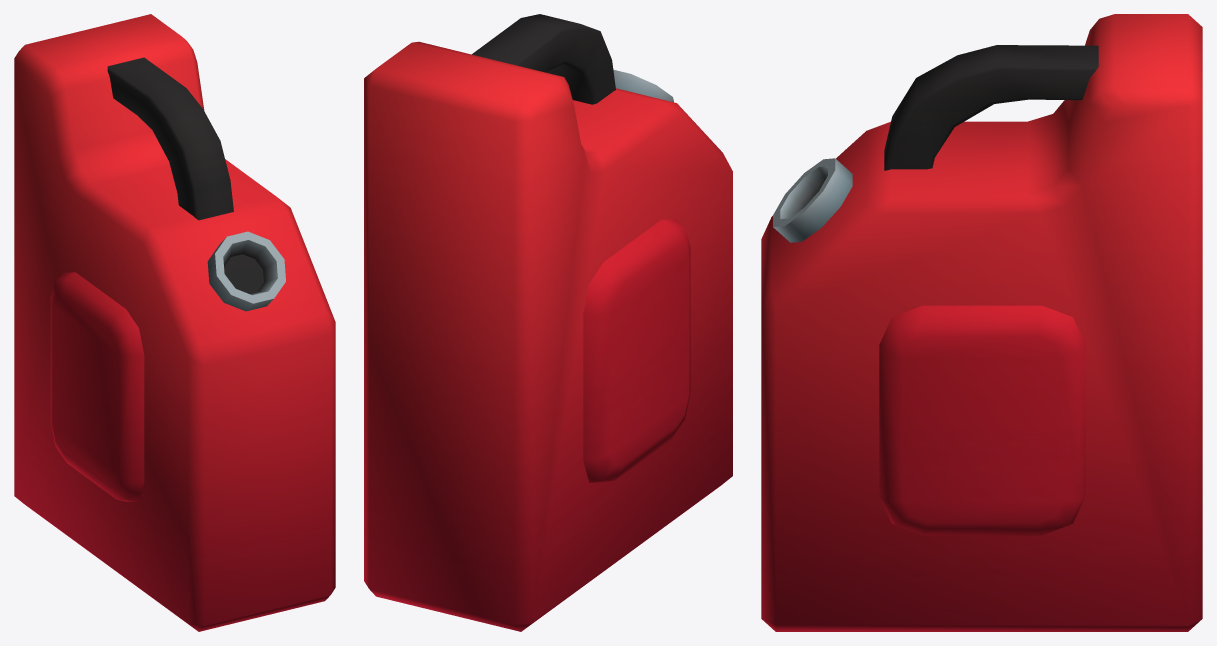
File: Fuel_Canister.fbx
3 renders of one model, left to right at view 1: azimuth 30°, elevation 25°; view 2: azimuth 150°, elevation 25°; view 3: azimuth 270°, elevation 25°, orthographic. The views are drawn at different scales.
Parts seen in each view (by area): view 1: Fuel_Canister; view 2: Fuel_Canister; view 3: Fuel_Canister.
Boxes of the visible parts, <box> form: Fuel_Canister: <box>14,14,335,631</box>; Fuel_Canister: <box>364,14,732,631</box>; Fuel_Canister: <box>761,14,1202,631</box>.
Bounding box in the file's own units: 20.35 × 36.72 × 50.06.
